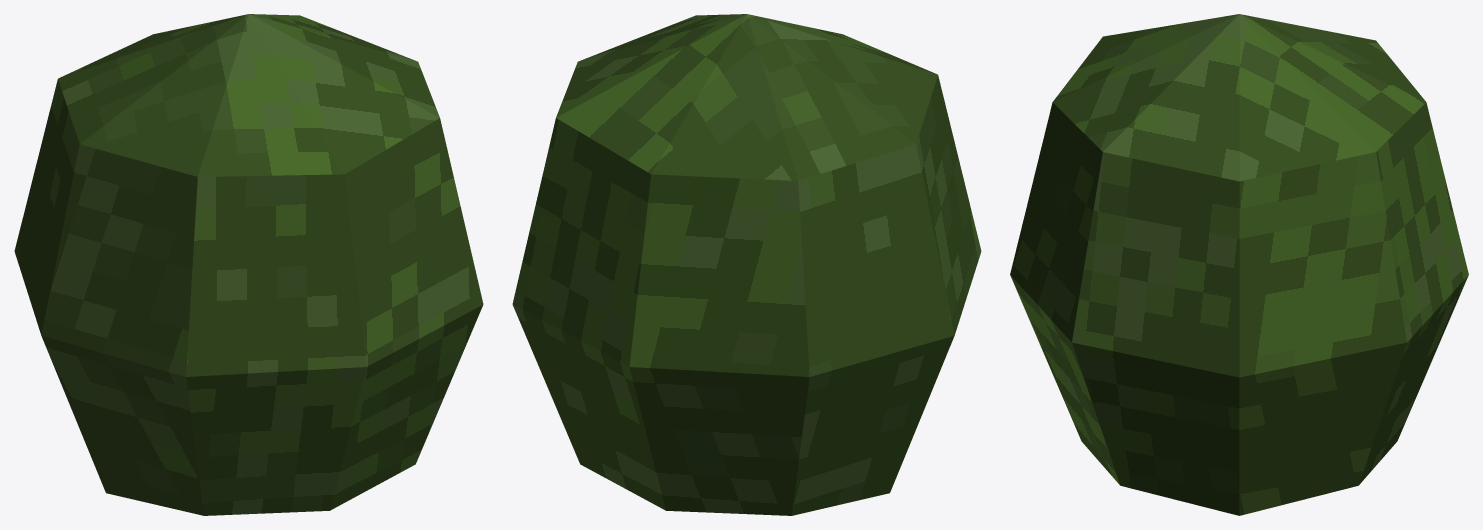
The model's file is tree.fbx.
The picture shows the model from 3 angles, left to right: view 1: azimuth 30°, elevation 25°; view 2: azimuth 150°, elevation 25°; view 3: azimuth 270°, elevation 25°; orthographic projection. The views are drawn at different scales.
Visible parts, largest first — view 1: Tree; view 2: Tree; view 3: Tree.
Boxes of the visible parts, bbox=[...] form: Tree: bbox=[14, 14, 483, 515]; Tree: bbox=[512, 14, 981, 515]; Tree: bbox=[1010, 14, 1468, 515].
Bounding box in the file's own units: 105 × 111 × 103.
